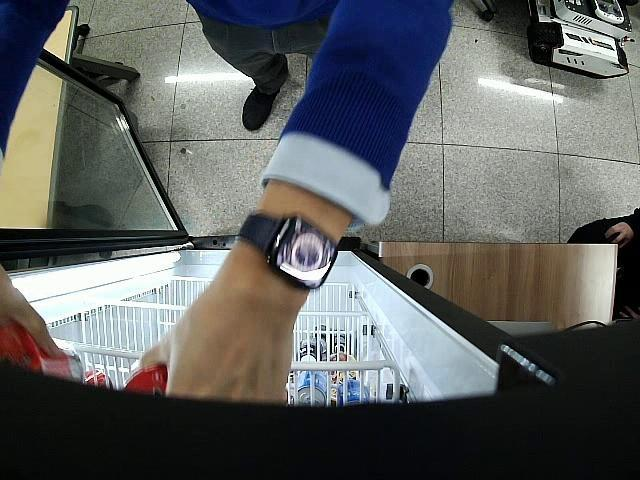02_shinRamen_S: (0, 324, 85, 382)
